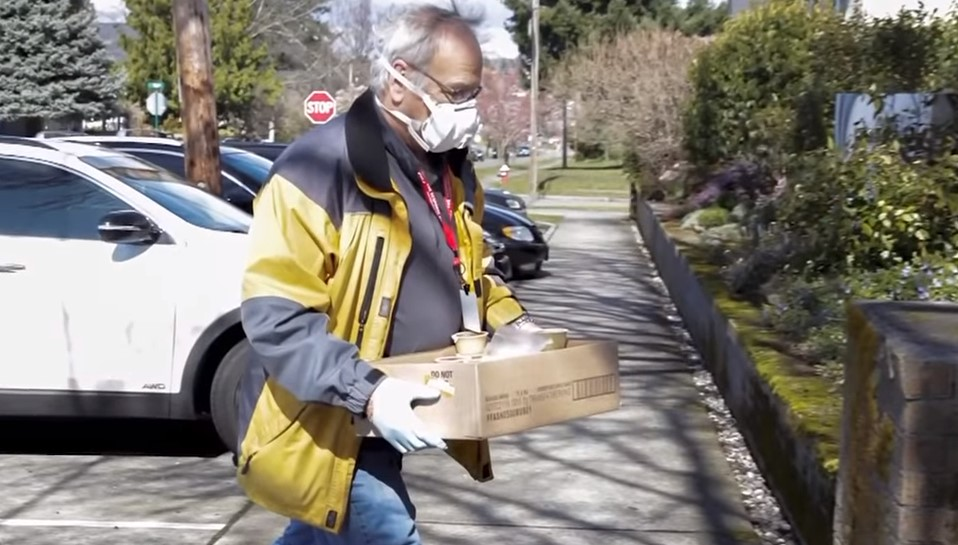face_with_mask: (373, 13, 484, 157)
